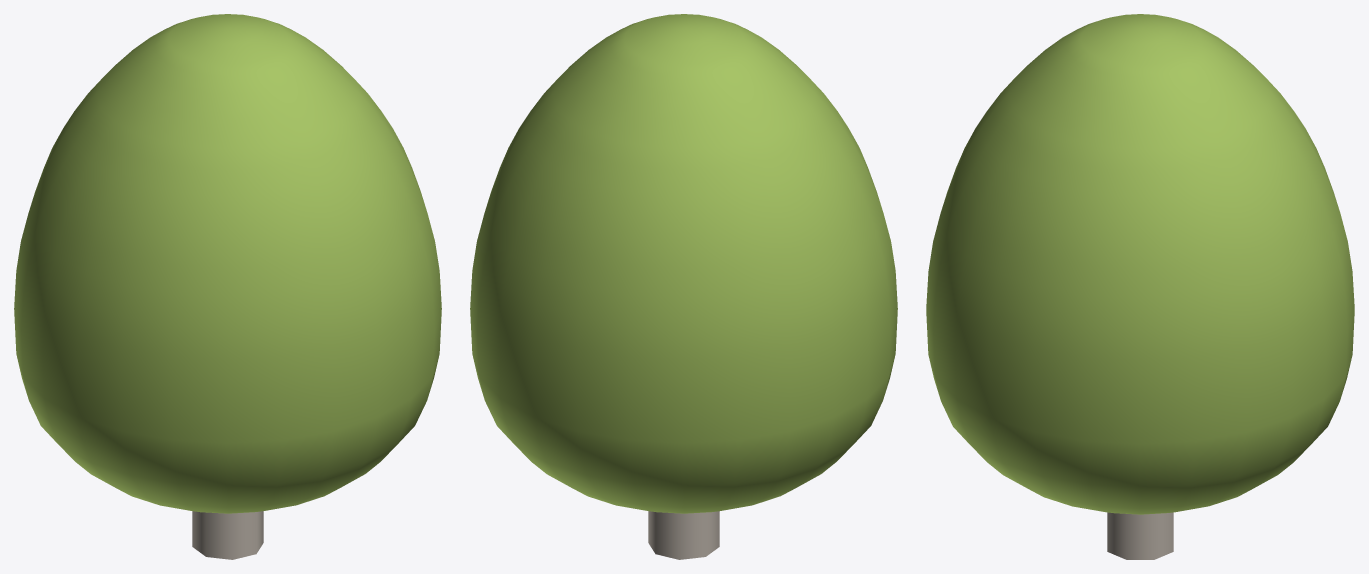
The model's file is CercocarpusMontanus.glb.
3 views of the same model, side by side, from view 1: azimuth 30°, elevation 25°; view 2: azimuth 150°, elevation 25°; view 3: azimuth 270°, elevation 25° (orthographic).
Visible parts, largest first — view 1: Mountain_Mahogany__Schematic_LOD3; view 2: Mountain_Mahogany__Schematic_LOD3; view 3: Mountain_Mahogany__Schematic_LOD3.
Part boxes in pixels (left/top/right/bottom): Mountain_Mahogany__Schematic_LOD3: left=14, top=14, right=441, bottom=559; Mountain_Mahogany__Schematic_LOD3: left=470, top=14, right=897, bottom=559; Mountain_Mahogany__Schematic_LOD3: left=926, top=14, right=1354, bottom=559.
Bounding box in the file's own units: 2.98 × 3.97 × 2.98.
